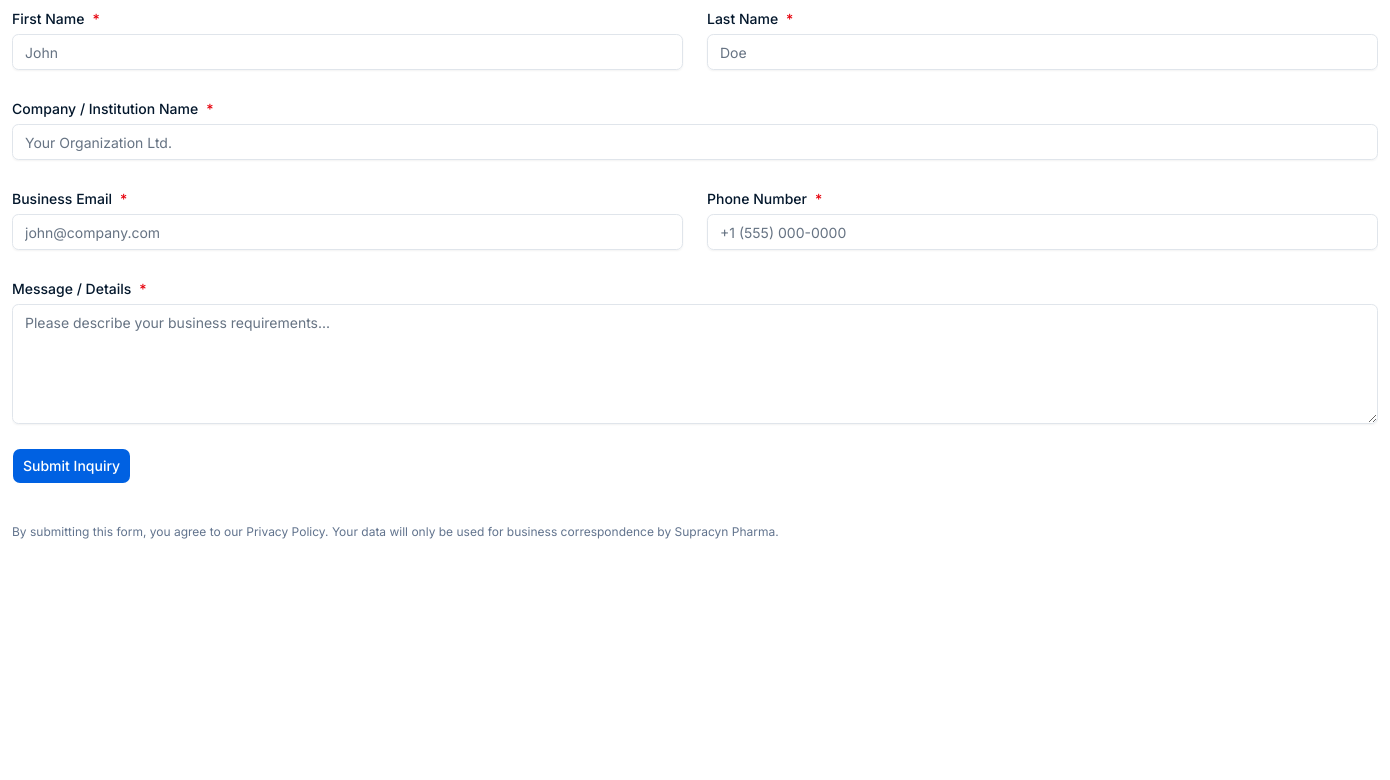
Test case: InquiryForm › shows validation error when message is too short
The image size is (1390, 780).
Step 1. Type "Short" into the text box labelled "Message / Details *" → [695, 364], box [12, 304, 1378, 424]
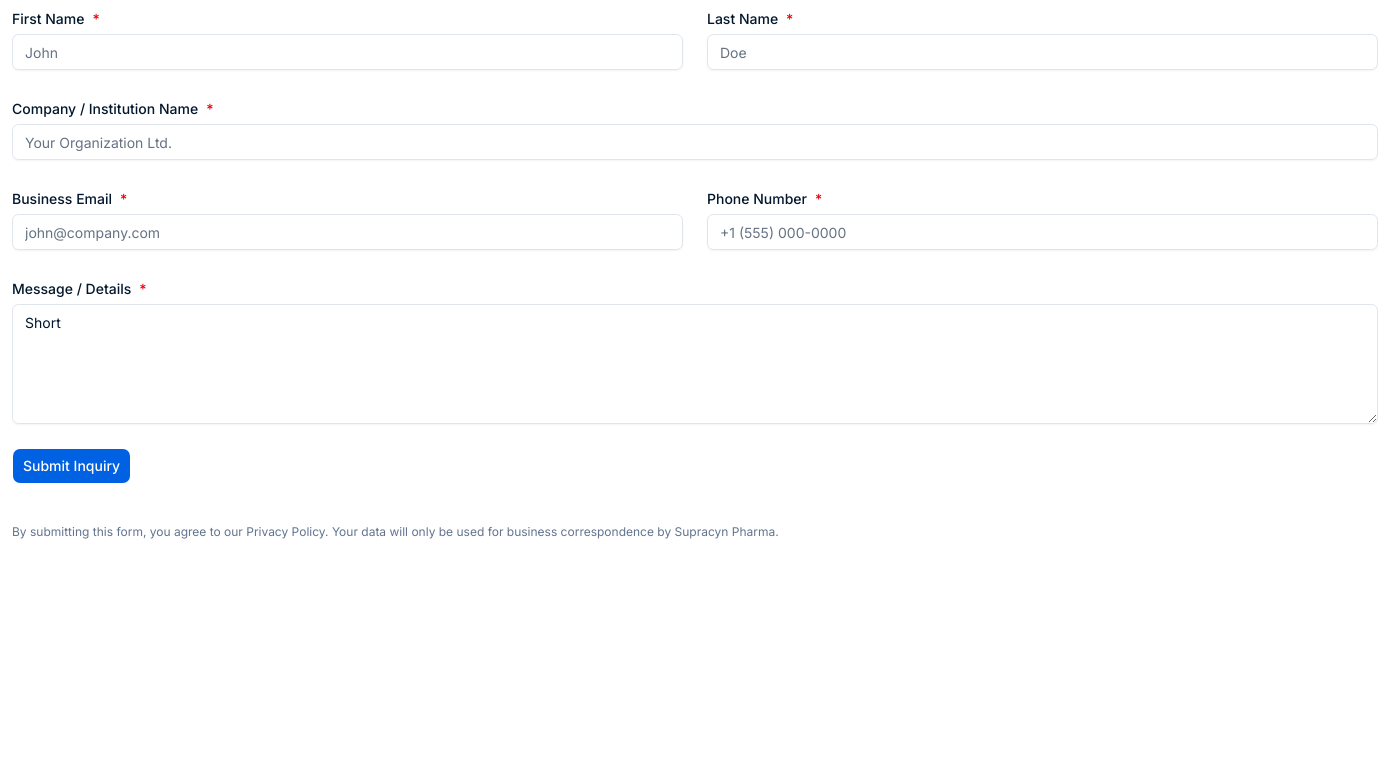
Step 2. Leave the text box labelled "Message / Details *", box [12, 304, 1378, 424]
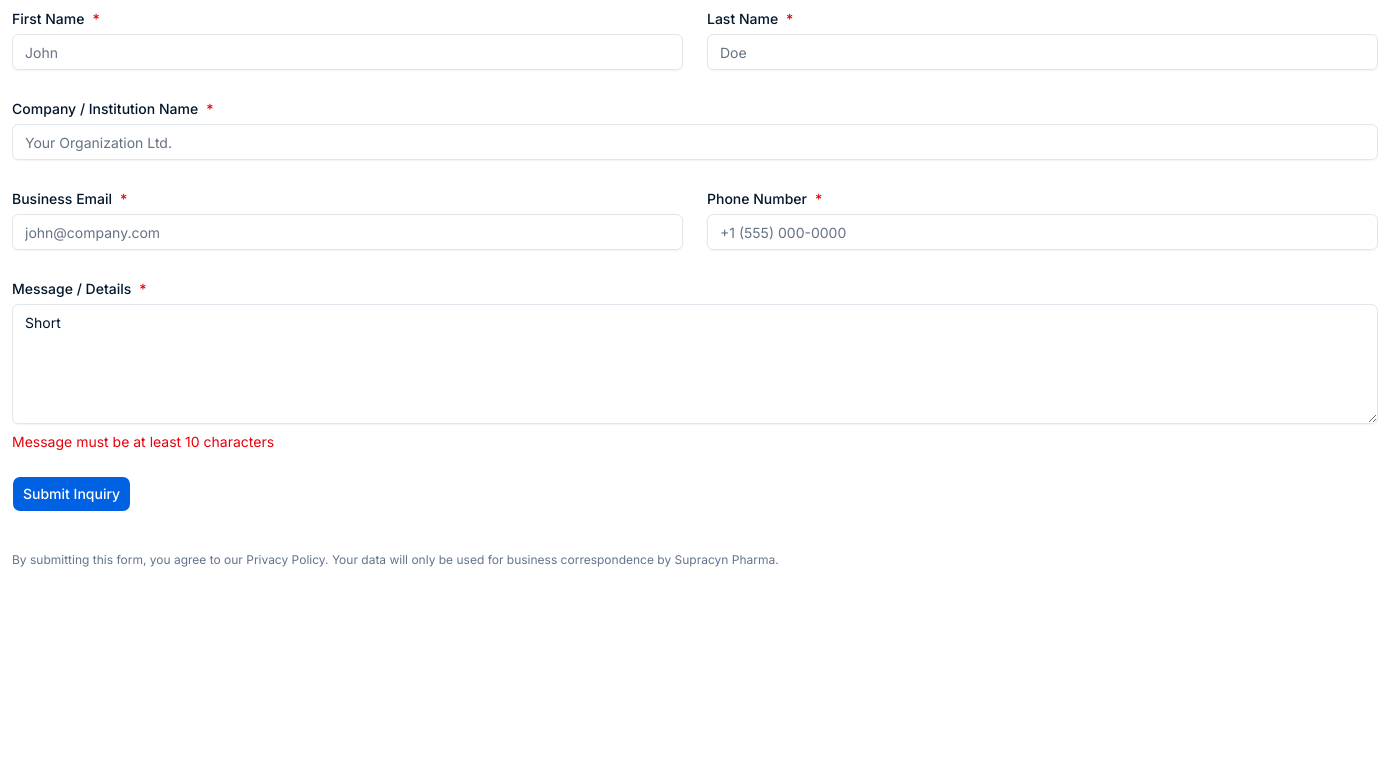
Now the text "Message must be at least 10 characters" is shown, box [12, 433, 274, 450]
